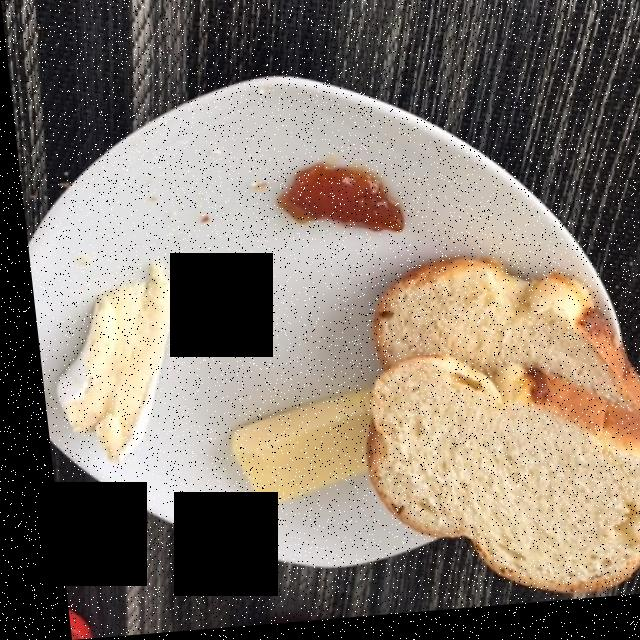braided-white-loaf: (361, 270, 640, 594)
butter: (216, 385, 371, 506)
jam: (283, 159, 394, 241)
